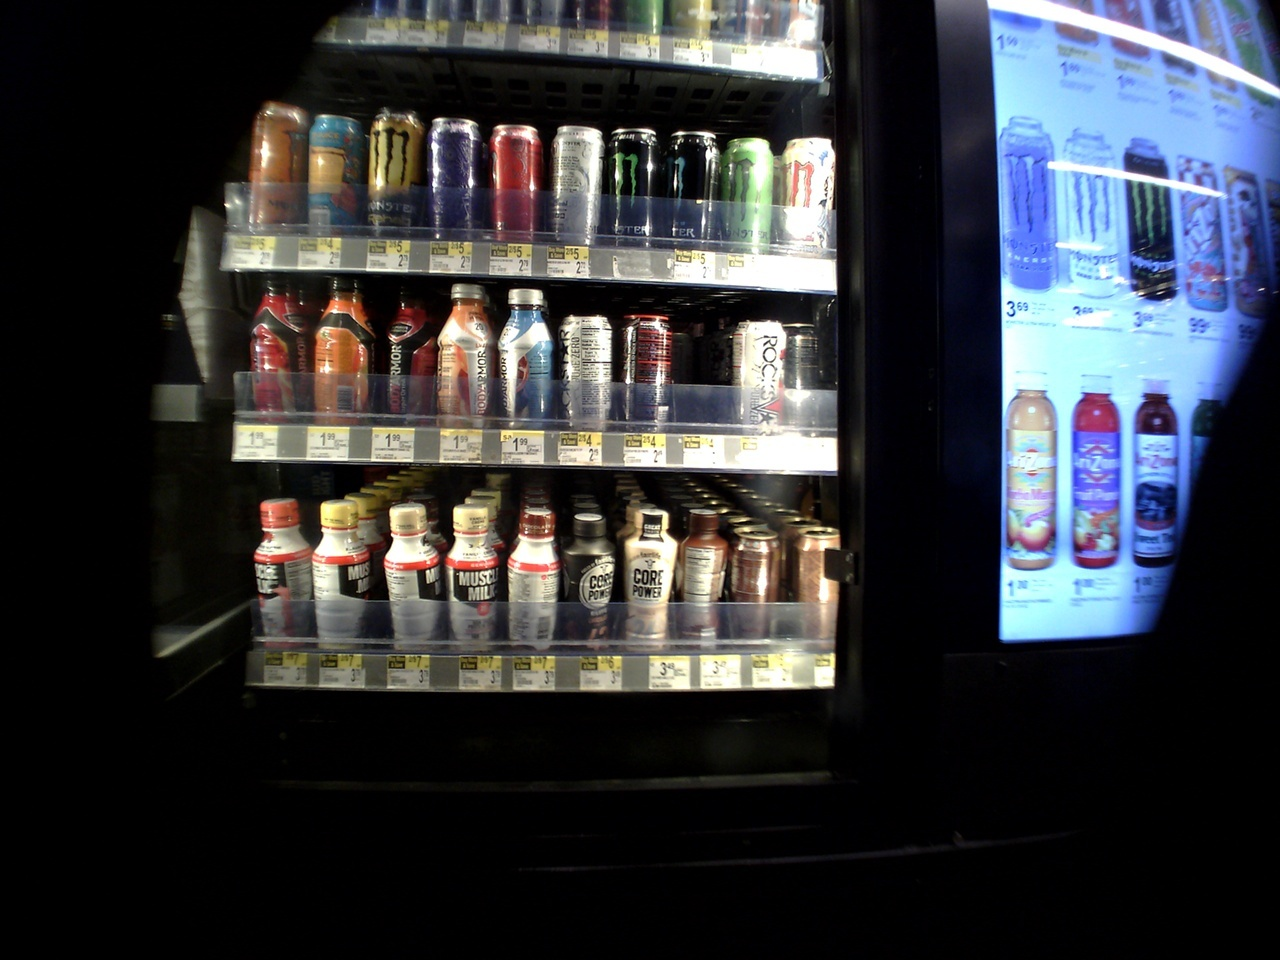shelf: (203, 53, 833, 276), (236, 469, 823, 695), (215, 273, 811, 477)
